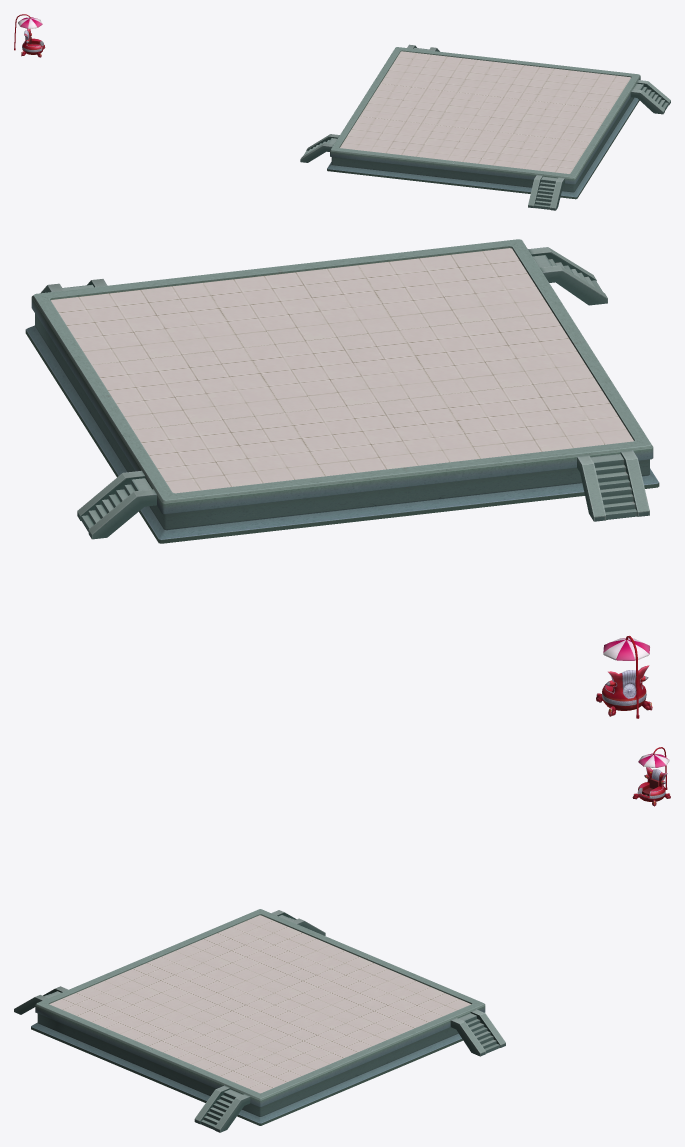
The model's file is difuwudaohui_pingtai.FBX.
3 views of the same model, one above another, from view 1: azimuth 30°, elevation 25°; view 2: azimuth 150°, elevation 25°; view 3: azimuth 270°, elevation 25° (orthographic). The views are drawn at different scales.
Visible parts, largest first — view 1: dibiao002, che002; view 2: dibiao002, che002; view 3: dibiao002, che002.
Boxes of the visible parts, x1,y1,x2,y2 form: dibiao002: (340,51,630,173); che002: (14,14,670,210); dibiao002: (51,248,633,493); che002: (25,239,659,718); dibiao002: (49,915,471,1093); che002: (14,747,670,1132).
Size of the model in its own units: 7775 by 1177 by 7341.
